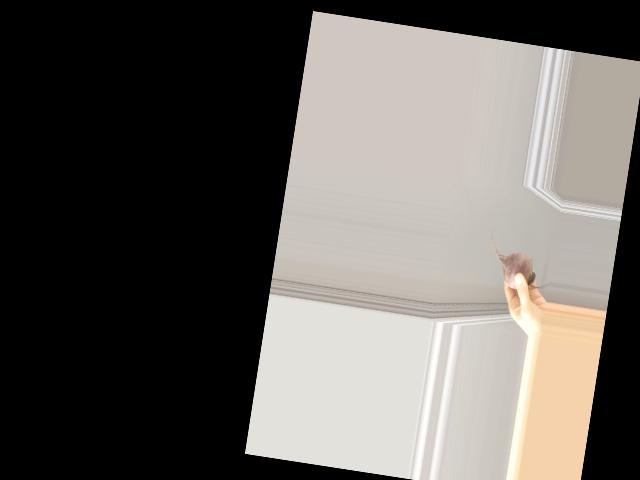beet: (483, 228, 557, 293)
